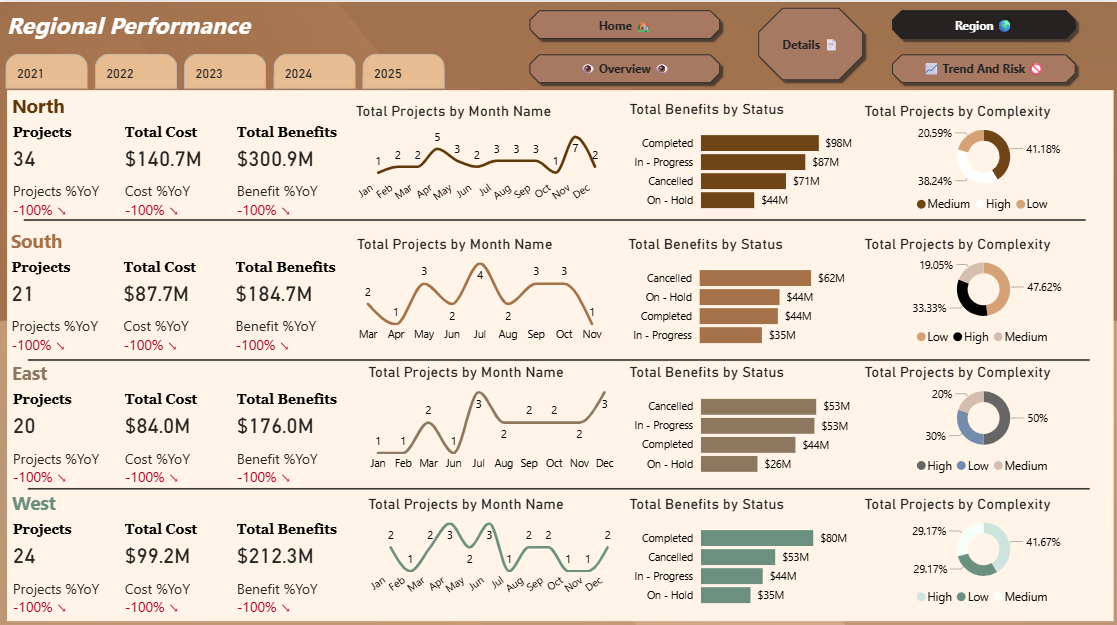

The dashboard page shown, as its layout file describes it:
{"tool":"powerbi","page":{"name":"Region  🌍","canvas":[1280,720],"ordinal":2},"visuals":[{"type":"cardVisual","fields":{"Data":["_Measures.Total Projects","_Measures.Total Cost","_Measures.Total Benefits"]},"box":[8.6,98.6,394.3,151.4],"z":0},{"type":"lineChart","title":"Total Projects  by Month Name","fields":{"Y":["_Measures.Total Projects"],"Category":["Date Table.Month Name"]},"box":[401.4,114.3,292.9,132.9],"z":1000},{"type":"barChart","title":"Total Benefits by Status","fields":{"Category":["Project Management Dataset (1).Status"],"Y":["_Measures.Total Benefits"]},"box":[714.9,111.4,264.3,138.6],"z":2000},{"type":"donutChart","title":"Total Projects by Complexity","fields":{"Category":["Project Management Dataset (1).Complexity"],"Y":["_Measures.Total Projects"]},"box":[983.3,114.3,282.9,135.7],"z":3000},{"type":"textbox","box":[2.4,2.4,398.1,45.8],"z":4000},{"type":"cardVisual","fields":{"Data":["_Measures.Total Projects","_Measures.Total Cost","_Measures.Total Benefits"]},"box":[7.1,252.9,394.3,151.4],"z":5000},{"type":"lineChart","title":"Total Projects  by Month Name","fields":{"Y":["_Measures.Total Projects"],"Category":["Date Table.Month Name"]},"box":[402.9,265.7,292.9,132.9],"z":6000},{"type":"barChart","title":"Total Benefits by Status","fields":{"Category":["Project Management Dataset (1).Status"],"Y":["_Measures.Total Benefits"]},"box":[713.5,265.7,264.3,138.6],"z":7000},{"type":"donutChart","title":"Total Projects by Complexity","fields":{"Category":["Project Management Dataset (1).Complexity"],"Y":["_Measures.Total Projects"]},"box":[983.3,265.7,282.9,135.7],"z":8000},{"type":"cardVisual","fields":{"Data":["_Measures.Total Projects","_Measures.Total Cost","_Measures.Total Benefits"]},"box":[8.6,401.4,394.3,154.3],"z":9000},{"type":"lineChart","title":"Total Projects  by Month Name","fields":{"Y":["_Measures.Total Projects"],"Category":["Date Table.Month Name"]},"box":[415.7,412.9,292.9,132.9],"z":10000},{"type":"barChart","title":"Total Benefits by Status","fields":{"Category":["Project Management Dataset (1).Status"],"Y":["_Measures.Total Benefits"]},"box":[714.9,412.9,264.3,138.6],"z":11000},{"type":"donutChart","title":"Total Projects by Complexity","fields":{"Category":["Project Management Dataset (1).Complexity"],"Y":["_Measures.Total Projects"]},"box":[983.3,412.9,282.9,135.7],"z":12000},{"type":"cardVisual","fields":{"Data":["_Measures.Total Projects","_Measures.Total Cost","_Measures.Total Benefits"]},"box":[8.6,545.7,392.9,158.6],"z":13000},{"type":"lineChart","title":"Total Projects  by Month Name","fields":{"Y":["_Measures.Total Projects"],"Category":["Date Table.Month Name"]},"box":[415.7,562.9,292.9,132.9],"z":14000},{"type":"barChart","title":"Total Benefits by Status","fields":{"Category":["Project Management Dataset (1).Status"],"Y":["_Measures.Total Benefits"]},"box":[714.3,562.9,264.3,138.6],"z":15000},{"type":"donutChart","title":"Total Projects by Complexity","fields":{"Category":["Project Management Dataset (1).Complexity"],"Y":["_Measures.Total Projects"]},"box":[982.9,562.9,282.9,135.7],"z":16000},{"type":"advancedSlicerVisual","fields":{"Values":["Date Table.Year"]},"box":[1.4,54.3,512.9,50],"z":17000},{"type":"pageNavigator","box":[598.8,2.5,231.2,96.2],"z":18000},{"type":"pageNavigator","box":[1012.5,2.5,223.8,96.2],"z":19000},{"type":"pageNavigator","box":[860,0,133.8,96.2],"z":20000}]}

Visuals, with their boxes in screenshot pixels (x1, y1, x2, y2), scaled from the page's 1280x720 canvas onto the 1117x625 screenshot:
cardVisual - _Measures.Total Projects x _Measures.Total Cost: BBox(8, 86, 352, 217)
"Total Projects  by Month Name" lineChart: BBox(350, 99, 606, 215)
"Total Benefits by Status" barChart: BBox(624, 97, 855, 217)
"Total Projects by Complexity" donutChart: BBox(858, 99, 1105, 217)
textbox: BBox(2, 2, 349, 42)
cardVisual - _Measures.Total Projects x _Measures.Total Cost: BBox(6, 220, 350, 351)
"Total Projects  by Month Name" lineChart: BBox(352, 231, 607, 346)
"Total Benefits by Status" barChart: BBox(623, 231, 853, 351)
"Total Projects by Complexity" donutChart: BBox(858, 231, 1105, 348)
cardVisual - _Measures.Total Projects x _Measures.Total Cost: BBox(8, 348, 352, 482)
"Total Projects  by Month Name" lineChart: BBox(363, 358, 618, 474)
"Total Benefits by Status" barChart: BBox(624, 358, 855, 479)
"Total Projects by Complexity" donutChart: BBox(858, 358, 1105, 476)
cardVisual - _Measures.Total Projects x _Measures.Total Cost: BBox(8, 474, 350, 611)
"Total Projects  by Month Name" lineChart: BBox(363, 489, 618, 604)
"Total Benefits by Status" barChart: BBox(623, 489, 854, 609)
"Total Projects by Complexity" donutChart: BBox(858, 489, 1105, 606)
advancedSlicerVisual - Date Table.Year: BBox(1, 47, 449, 91)
pageNavigator: BBox(523, 2, 724, 86)
pageNavigator: BBox(884, 2, 1079, 86)
pageNavigator: BBox(750, 0, 867, 84)
